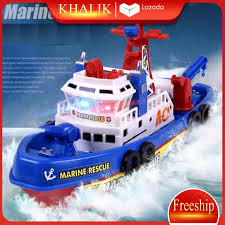tau_dansu: (27, 41, 214, 196)
